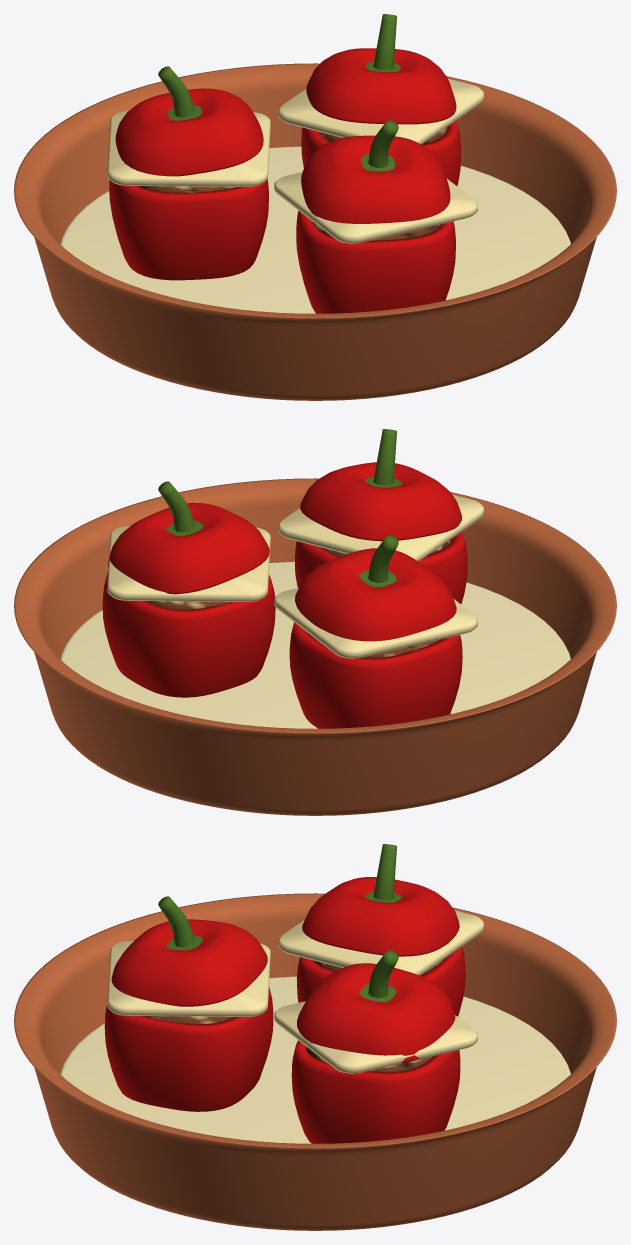
The model's file is paso-4.glb.
3 views of the same model, one above another, from view 1: azimuth 30°, elevation 25°; view 2: azimuth 150°, elevation 25°; view 3: azimuth 270°, elevation 25° (orthographic).
Parts seen in each view (by area): view 1: paso-4-0, paso-4-19, paso-4-7, paso-4-13, paso-4-16, paso-4-10, paso-4-4, paso-4-9, paso-4-3, paso-4-15, paso-4-1, paso-4-5 (+2 smaller); view 2: paso-4-0, paso-4-19, paso-4-1, paso-4-7, paso-4-10, paso-4-4, paso-4-16, paso-4-15, paso-4-3, paso-4-9, paso-4-13, paso-4-17 (+3 smaller); view 3: paso-4-0, paso-4-19, paso-4-13, paso-4-1, paso-4-4, paso-4-16, paso-4-10, paso-4-15, paso-4-9, paso-4-3, paso-4-7, paso-4-11 (+2 smaller).
Boxes of the visible parts, left/top/right/bottom form: paso-4-0: left=14, top=63, right=616, bottom=400; paso-4-19: left=60, top=146, right=570, bottom=313; paso-4-7: left=109, top=179, right=268, bottom=280; paso-4-13: left=296, top=210, right=455, bottom=313; paso-4-16: left=301, top=135, right=450, bottom=223; paso-4-10: left=115, top=88, right=263, bottom=176; paso-4-4: left=306, top=48, right=456, bottom=124; paso-4-9: left=107, top=111, right=270, bottom=186; paso-4-3: left=278, top=78, right=483, bottom=144; paso-4-15: left=274, top=172, right=477, bottom=243; paso-4-1: left=301, top=120, right=460, bottom=185; paso-4-5: left=373, top=14, right=396, bottom=70; paso-4-0: left=14, top=478, right=616, bottom=815; paso-4-19: left=60, top=561, right=570, bottom=728; paso-4-1: left=102, top=572, right=275, bottom=697; paso-4-7: left=289, top=622, right=462, bottom=728; paso-4-10: left=295, top=548, right=456, bottom=641; paso-4-4: left=108, top=502, right=269, bottom=594; paso-4-16: left=300, top=462, right=461, bottom=541; paso-4-15: left=278, top=495, right=483, bottom=561; paso-4-3: left=107, top=526, right=270, bottom=601; paso-4-9: left=274, top=588, right=477, bottom=658; paso-4-13: left=295, top=532, right=467, bottom=603; paso-4-17: left=373, top=429, right=396, bottom=485; paso-4-0: left=14, top=893, right=616, bottom=1230; paso-4-19: left=60, top=976, right=570, bottom=1143; paso-4-13: left=104, top=986, right=273, bottom=1111; paso-4-1: left=291, top=1040, right=460, bottom=1143; paso-4-4: left=297, top=963, right=455, bottom=1062; paso-4-16: left=111, top=919, right=267, bottom=1006; paso-4-10: left=302, top=877, right=459, bottom=956; paso-4-15: left=107, top=941, right=270, bottom=1016; paso-4-9: left=278, top=910, right=483, bottom=975; paso-4-3: left=274, top=1001, right=477, bottom=1073; paso-4-7: left=297, top=946, right=465, bottom=1016; paso-4-11: left=373, top=844, right=396, bottom=900.
Size of the model in its own units: 0.248 by 0.1026 by 0.248.
